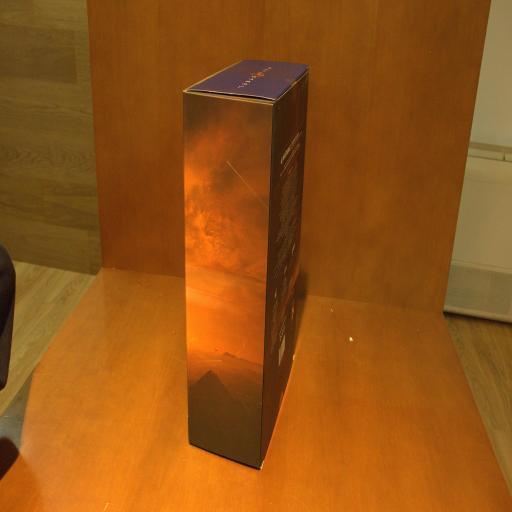superman: (182, 59, 312, 470)
